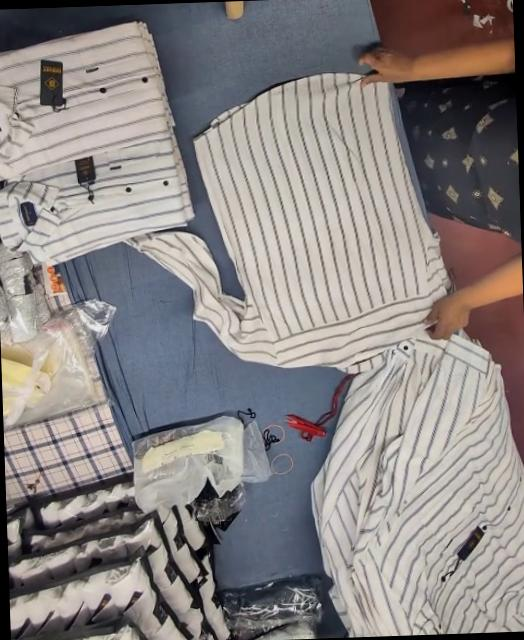new-garment: (136, 73, 450, 371)
